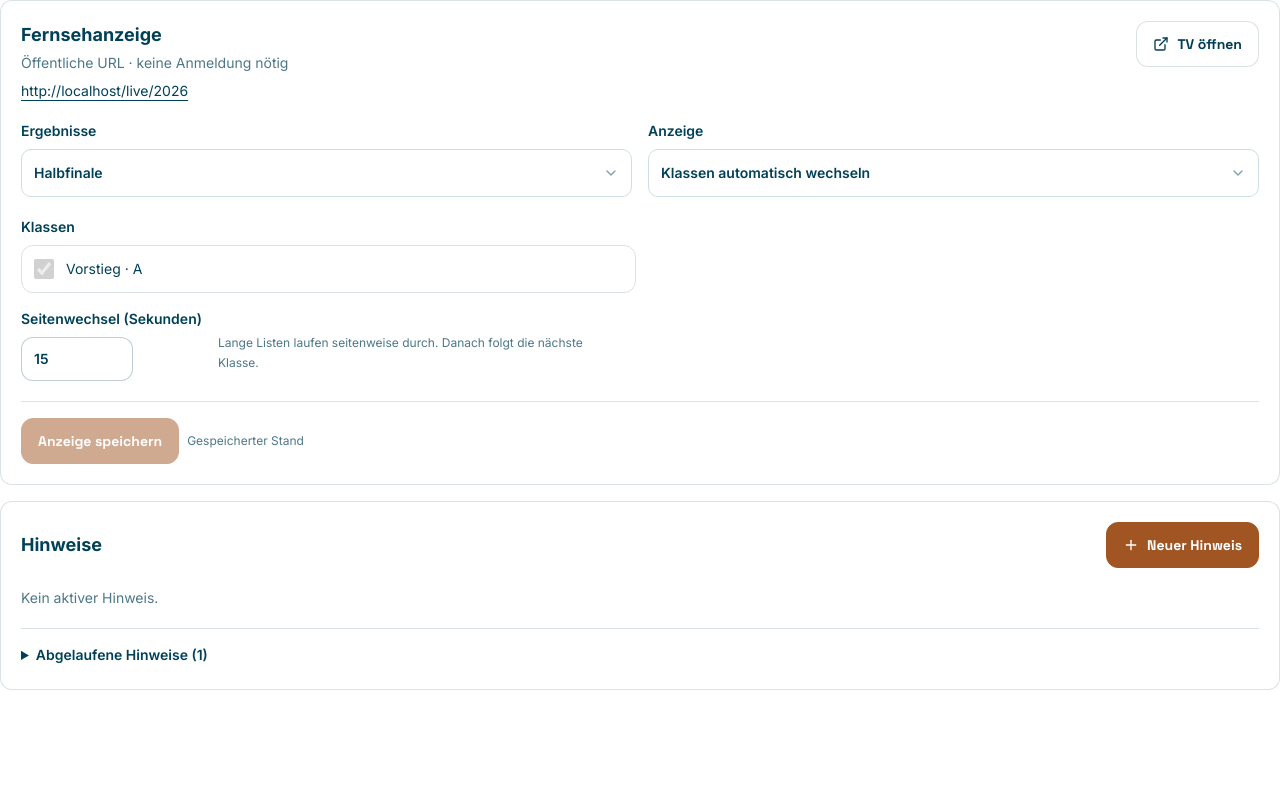
Test: display and notices › does not republish an expired notice without selecting a new expiry
Expected: the text "Kein aktiver Hinweis." is shown, [21,589,158,606]
Click the heading "Abgelaufene Hinweise (1)": [122, 654] box [36,646,208,663]
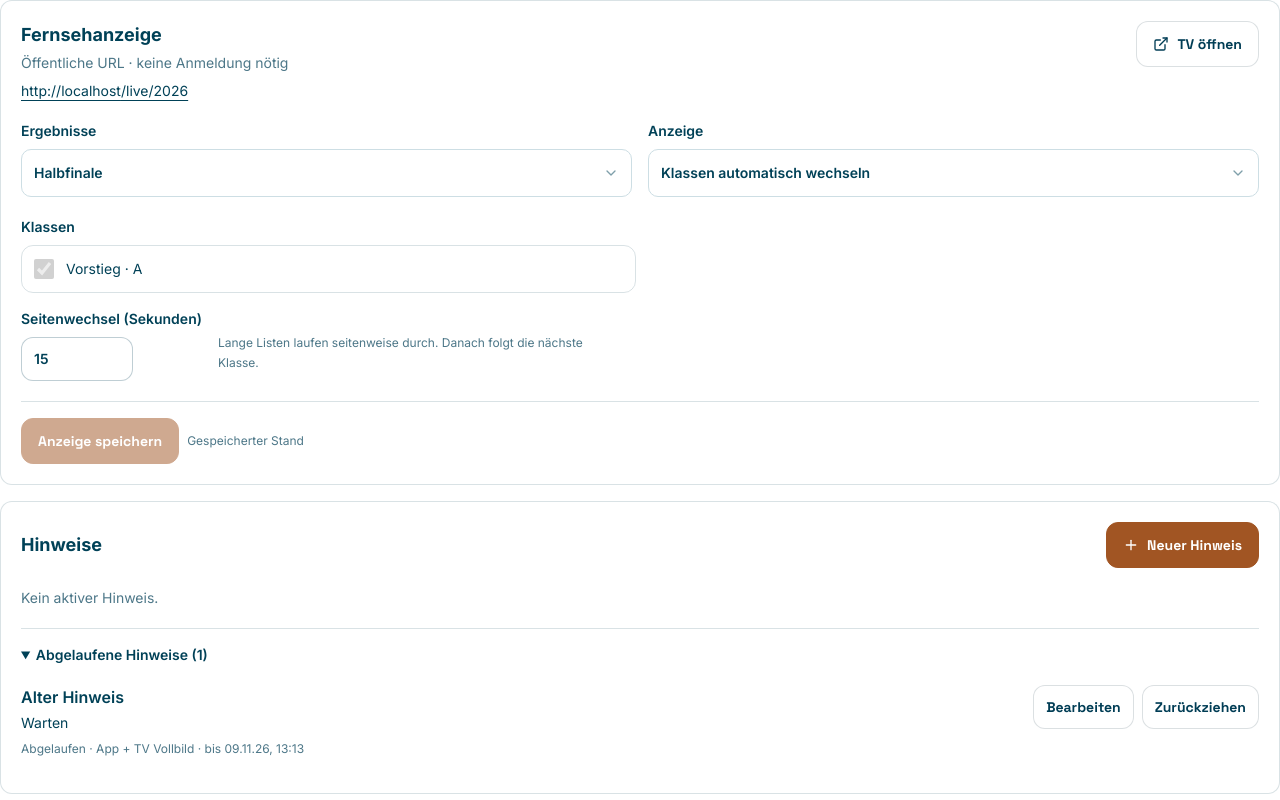
Click the button "Bearbeiten": [1084, 707] box [1033,685,1134,729]
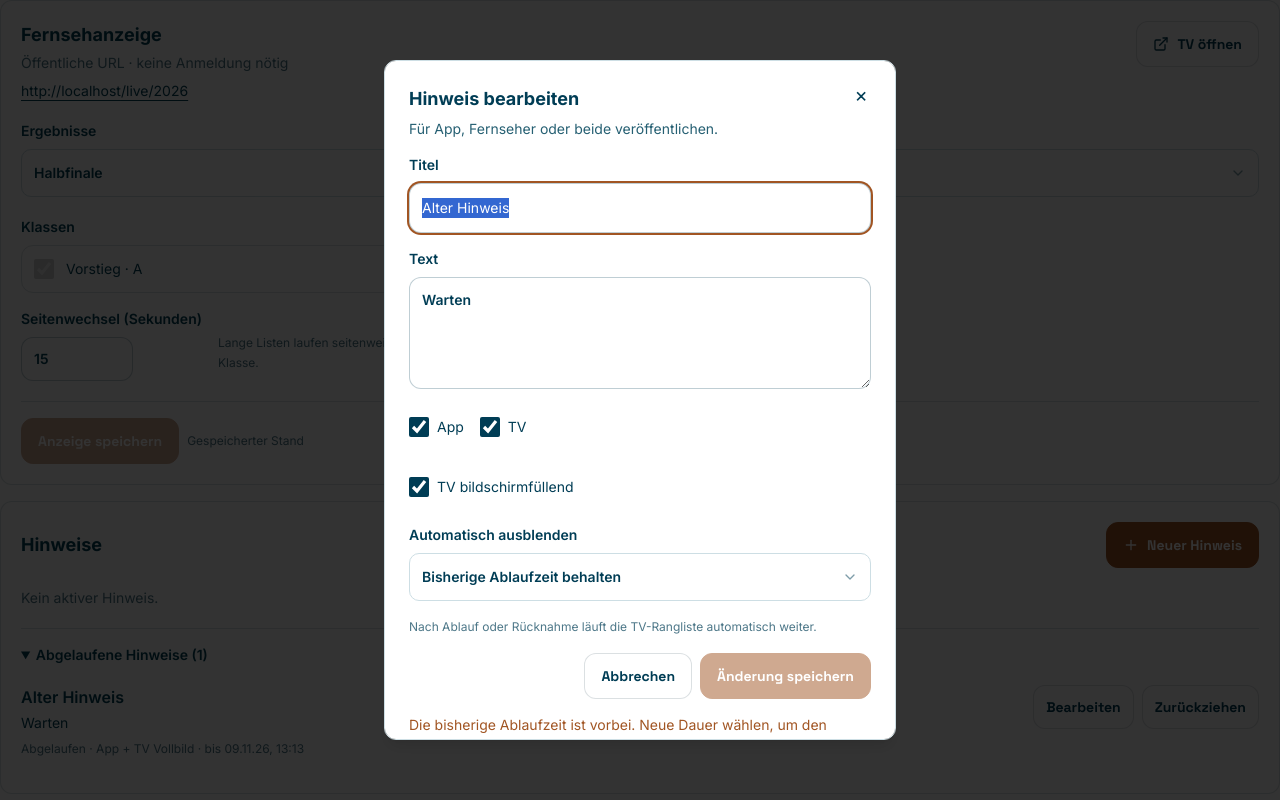
Expected: the button "Änderung speichern" is disabled, [700,653,871,699]
Press Enter in the dropdown named "Hinweis automatisch ausblenden", box [409,553,871,601]
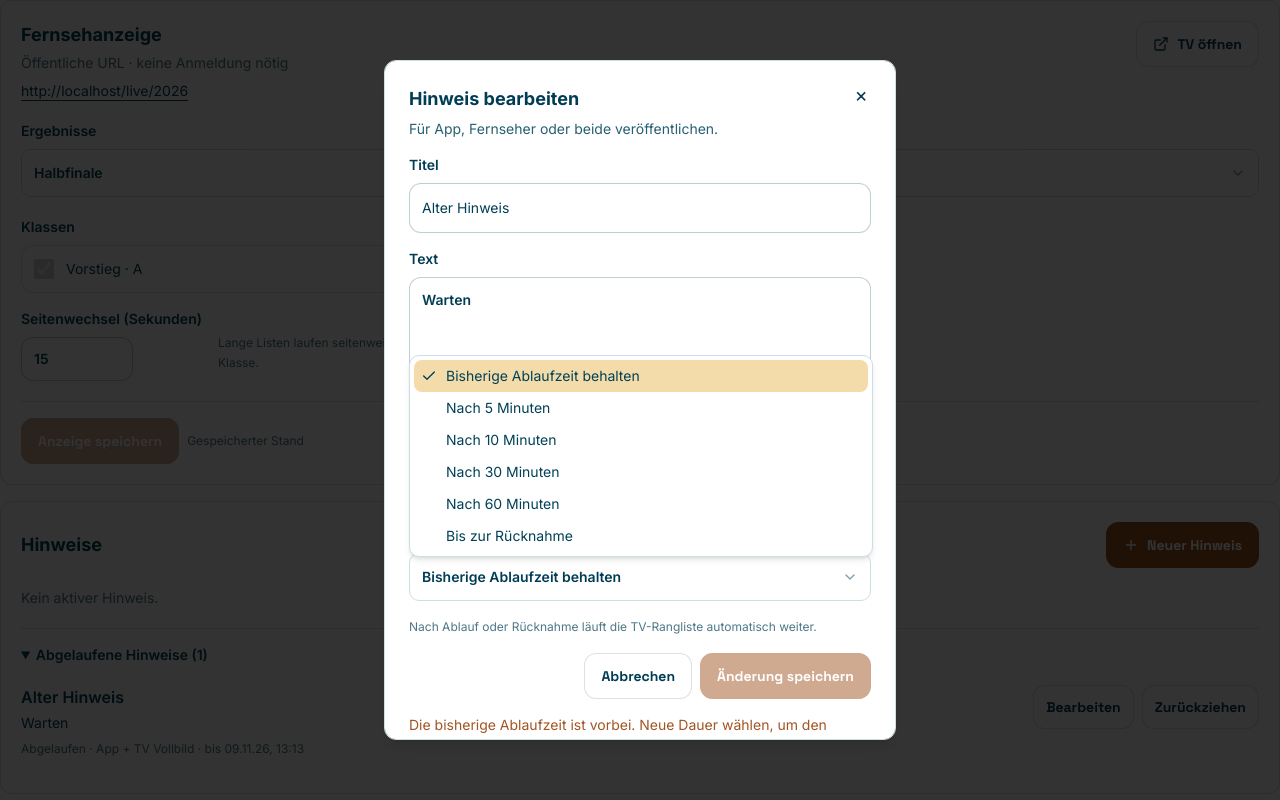
Click the option "Nach 5 Minuten": [498, 408] box [446,399,550,416]
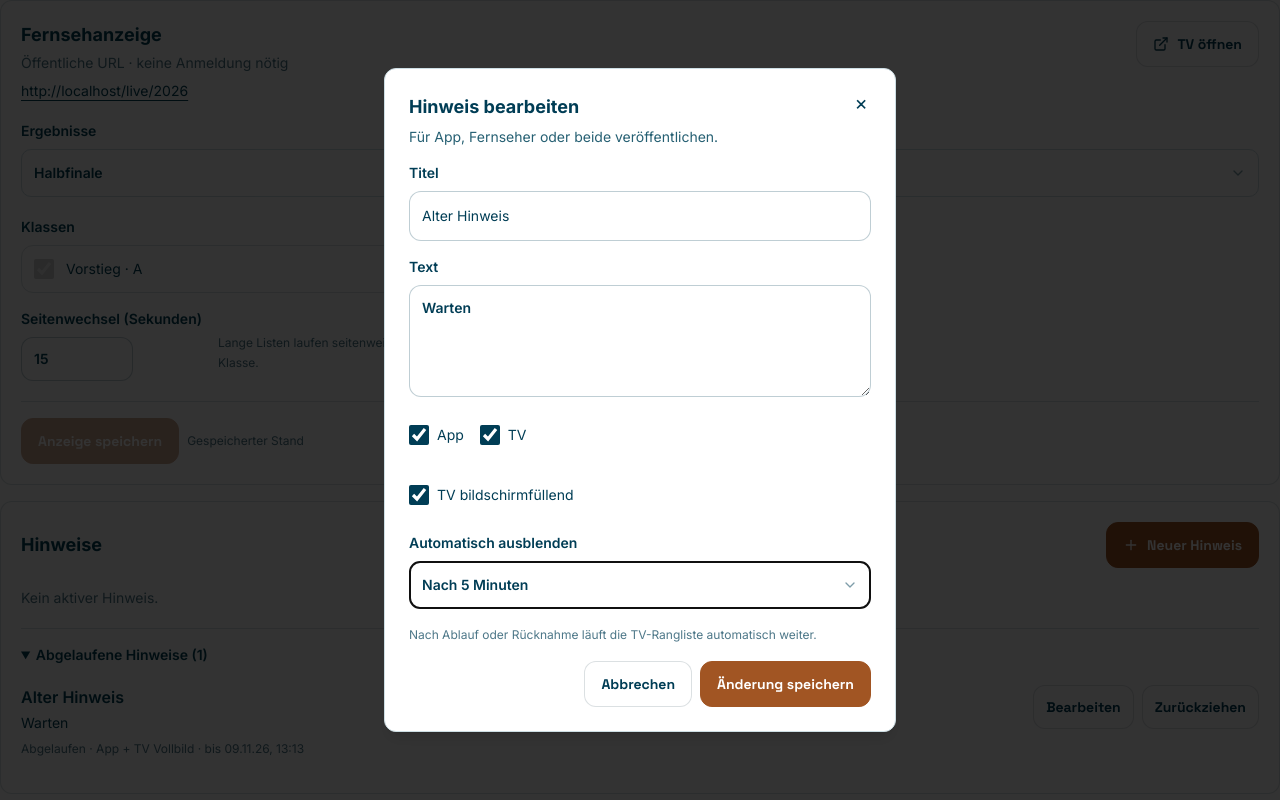
Expected: the button "Änderung speichern" is enabled, [700,661,871,707]
